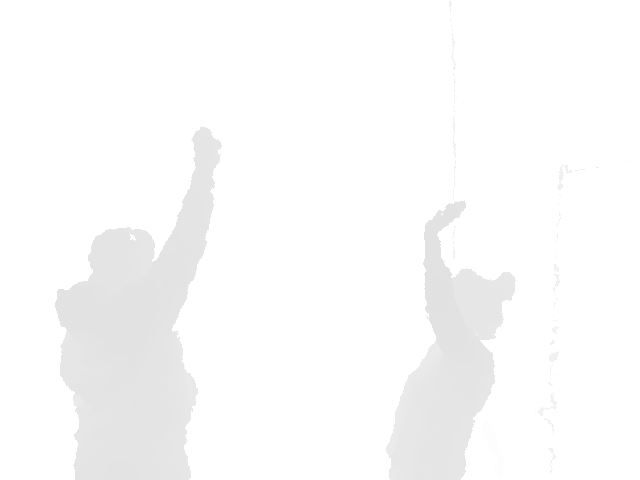hand: (191, 127, 221, 185), (424, 199, 466, 234)
head: (444, 269, 502, 349), (88, 227, 156, 294)
person: (54, 128, 222, 480), (384, 199, 517, 480)
